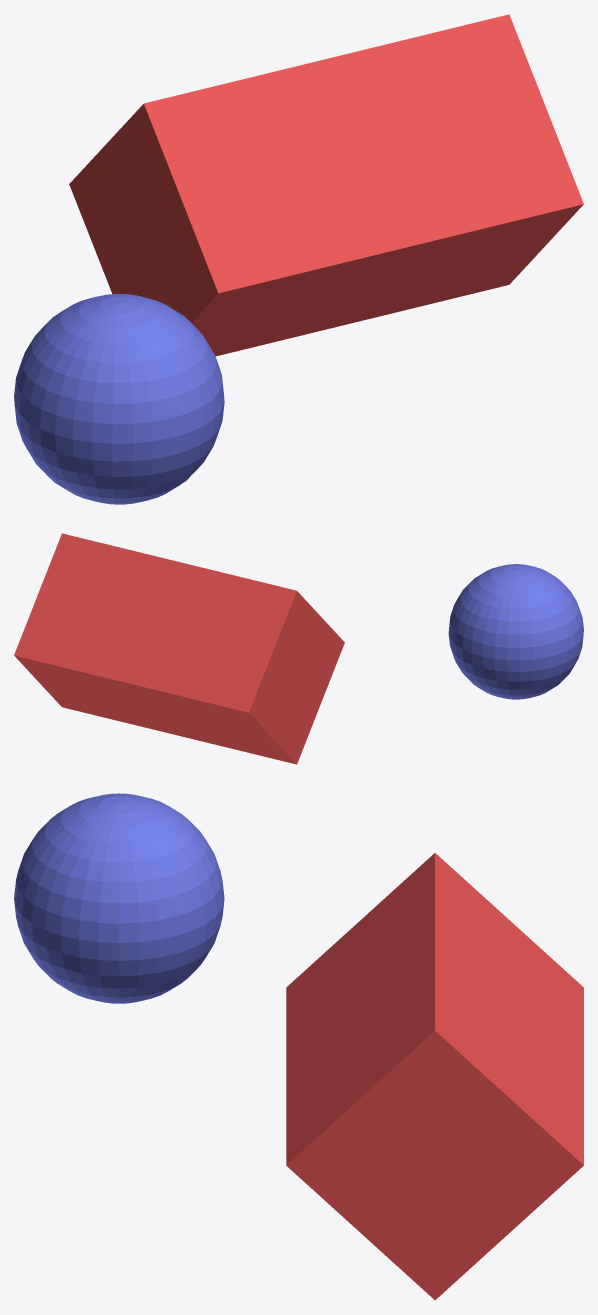
3 views of the same model, one above another, from view 1: azimuth 30°, elevation 25°; view 2: azimuth 150°, elevation 25°; view 3: azimuth 270°, elevation 25° (orthographic). The views are drawn at different scales.
Parts seen in each view (by area): view 1: Cube, Sphere; view 2: Cube, Sphere; view 3: Cube, Sphere.
Boxes of the visible parts, box(x1,y1,x2,y2) form: Cube: box(69, 14, 583, 356); Sphere: box(14, 294, 224, 504); Cube: box(14, 533, 344, 764); Sphere: box(448, 564, 583, 699); Cube: box(286, 853, 583, 1300); Sphere: box(14, 793, 224, 1003).
Size of the model in its own units: 700 by 283 by 541.
